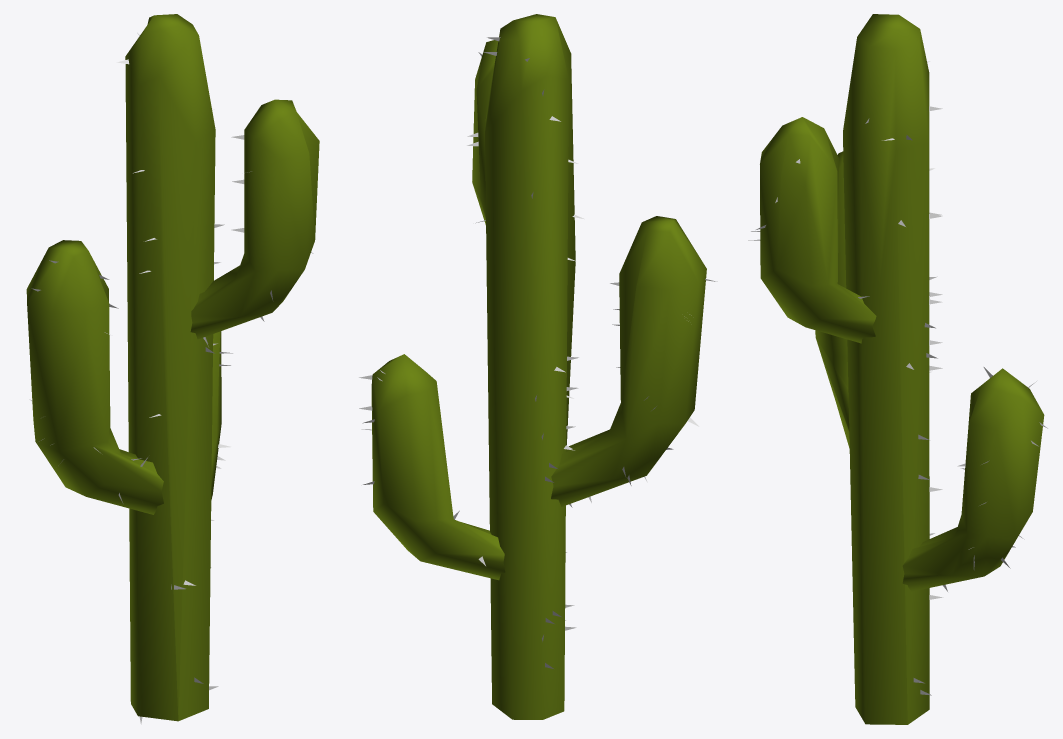
The model's file is cactus.glb.
3 views of the same model, side by side, from view 1: azimuth 30°, elevation 25°; view 2: azimuth 150°, elevation 25°; view 3: azimuth 270°, elevation 25° (orthographic).
Parts seen in each view (by area): view 1: cactus1; view 2: cactus1; view 3: cactus1.
Boxes of the visible parts, x1,y1,x2,y2 form: cactus1: (26,14,319,721); cactus1: (371,14,706,719); cactus1: (760,14,1044,724).
Bounding box in the file's own units: 0.8615 × 2.1 × 0.817.
